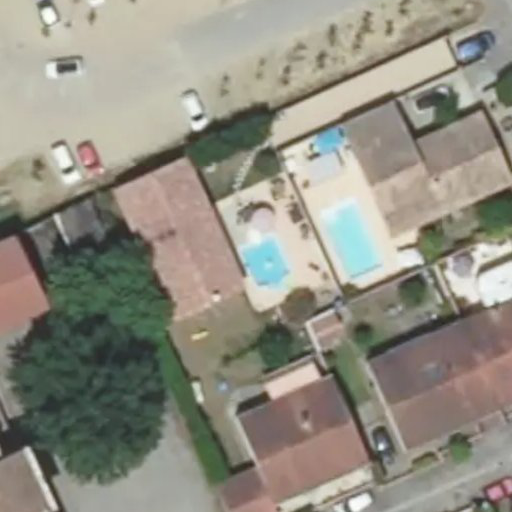pool: (221, 211, 290, 272)
